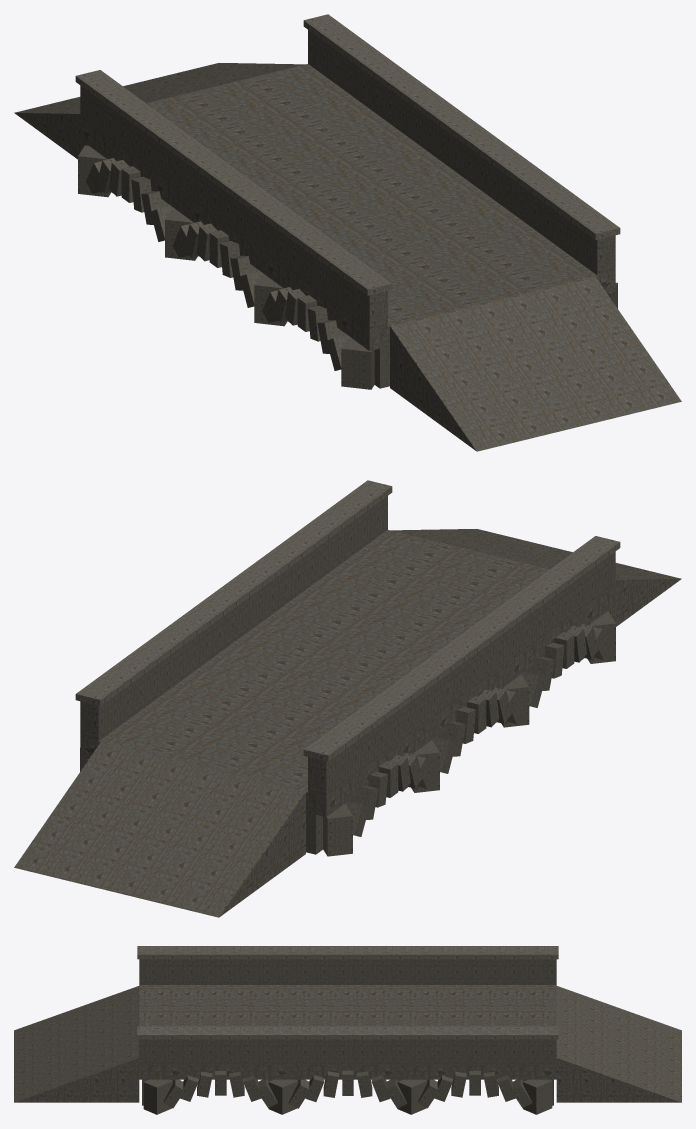
File: prop_bridge_stone.glb
The picture shows the model from 3 angles, top to bottom: view 1: azimuth 30°, elevation 25°; view 2: azimuth 150°, elevation 25°; view 3: azimuth 270°, elevation 25°; orthographic projection. The views are drawn at different scales.
Visible parts, largest first — view 1: prop_bridge_stone; view 2: prop_bridge_stone; view 3: prop_bridge_stone.
Part boxes in pixels (bbox=[...]): prop_bridge_stone: bbox=[14, 14, 681, 451]; prop_bridge_stone: bbox=[14, 480, 681, 917]; prop_bridge_stone: bbox=[14, 946, 681, 1114].
Size of the model in its own units: 6.03 by 2.21 by 17.6.
Materials: 2 (2 with a texture image).
